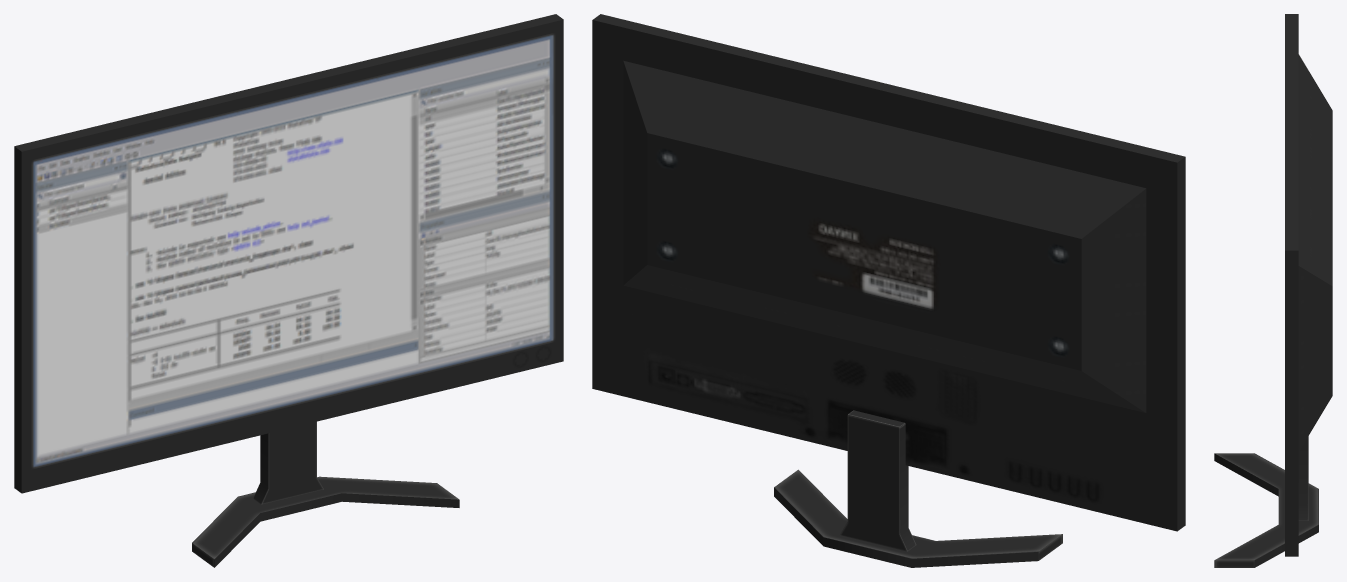
Rendered from monitor.FBX.
The picture shows the model from 3 angles, left to right: view 1: azimuth 30°, elevation 25°; view 2: azimuth 150°, elevation 25°; view 3: azimuth 270°, elevation 25°; orthographic projection. The views are drawn at different scales.
Parts seen in each view (by area): view 1: monitor; view 2: monitor; view 3: monitor.
Part boxes in pixels (x1,y1,x2,y2): monitor: (14, 14, 563, 567); monitor: (592, 14, 1185, 567); monitor: (1214, 14, 1332, 567).
Bounding box in the file's own units: 17.19 × 3.63 × 12.86.
